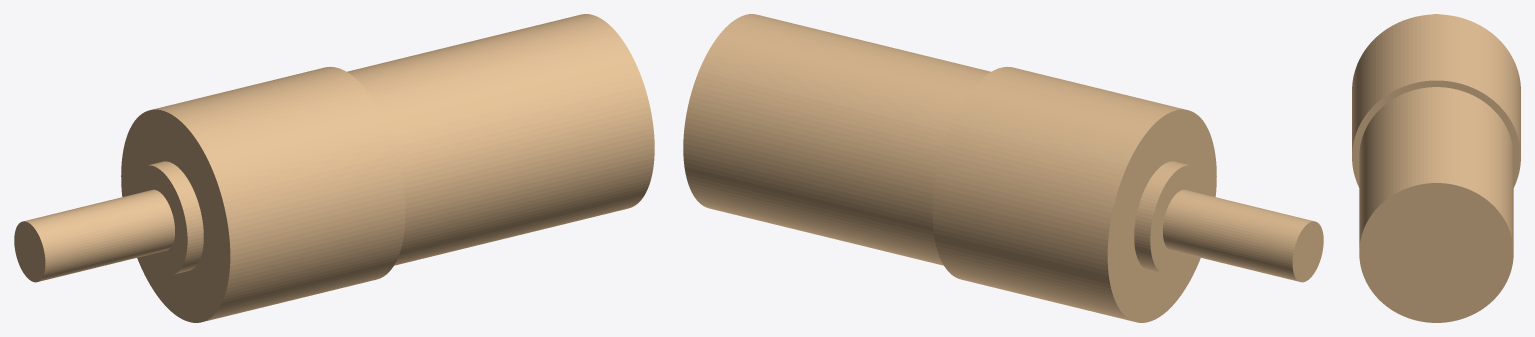
The model's file is motorhus.glb.
The picture shows the model from 3 angles, left to right: view 1: azimuth 30°, elevation 25°; view 2: azimuth 150°, elevation 25°; view 3: azimuth 270°, elevation 25°; orthographic projection. The views are drawn at different scales.
Parts seen in each view (by area): view 1: motorhus; view 2: motorhus; view 3: motorhus.
Boxes of the visible parts, x1,y1,x2,y2 form: motorhus: [14, 14, 654, 322]; motorhus: [683, 14, 1323, 322]; motorhus: [1352, 14, 1520, 322].
Bounding box in the file's own units: 106 × 34.99 × 35.
